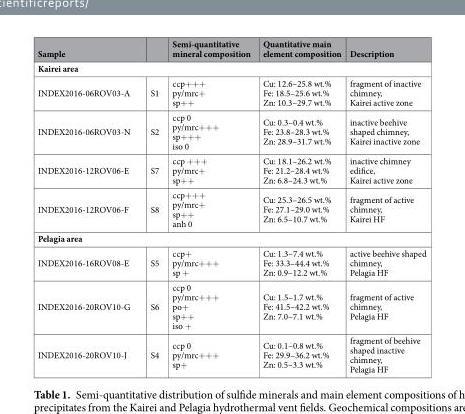table: (36, 37, 425, 374)
table column: (36, 37, 139, 374), (164, 37, 255, 374), (255, 37, 344, 374), (344, 37, 425, 374), (139, 37, 164, 374)
table column header: (36, 37, 425, 60)
table projected row header: (36, 60, 425, 75), (36, 230, 425, 245)
table row: (36, 279, 425, 332), (36, 109, 425, 153), (36, 187, 425, 230), (36, 332, 425, 374), (36, 75, 425, 109), (36, 153, 425, 187), (36, 245, 425, 279), (36, 37, 425, 60), (36, 60, 425, 75), (36, 230, 425, 245)
